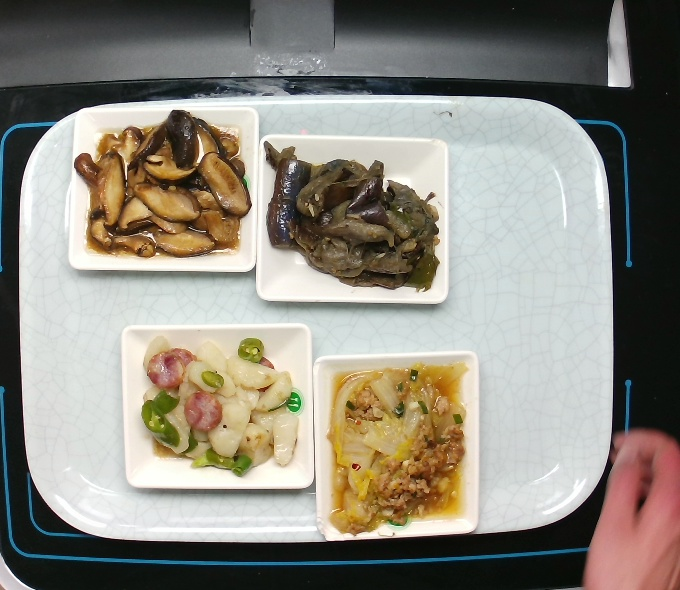wcq-MaTiGuo: (131, 326, 307, 486)
wcq-MoGu: (61, 107, 253, 266)
wcq-QieZi: (258, 129, 449, 308)
wcq-RouMoBaiCai: (323, 361, 483, 540)
